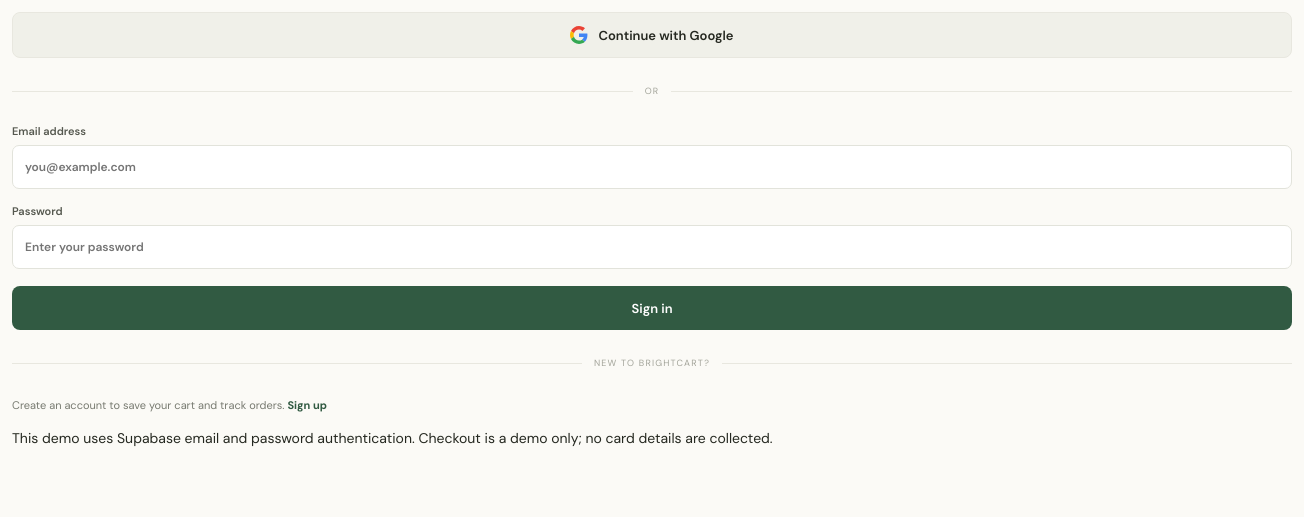
Test: PasswordAuthForm › shows authentication failures to the user
Type "buyer@example.com" into the field labelled "Email address" at (652, 167), box [12,145,1292,189]
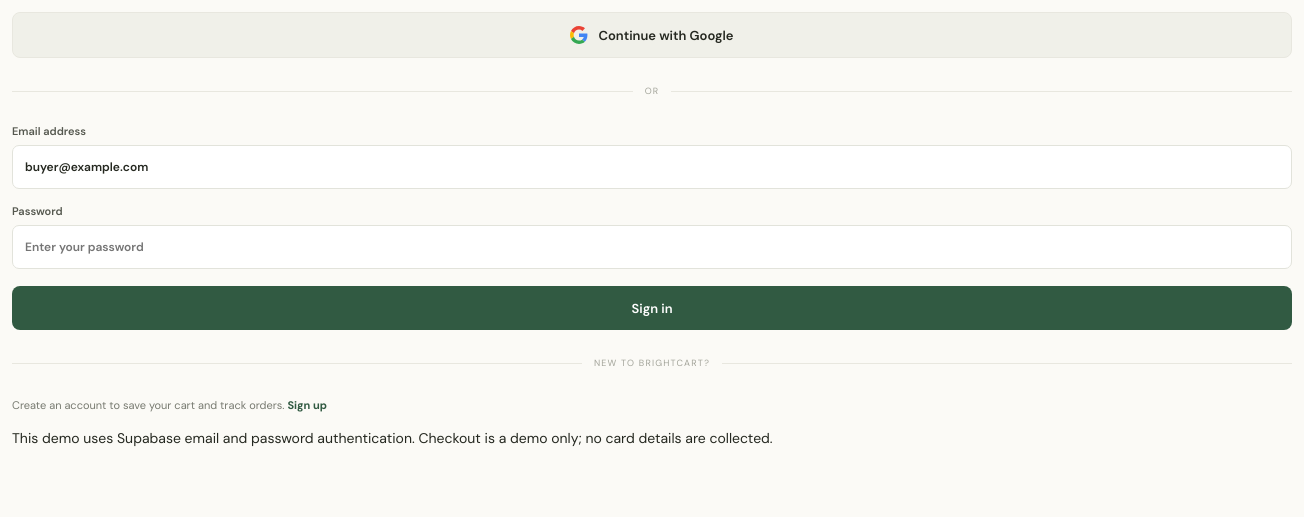
Type "wrong-password" into the password field labelled "Password" at (652, 247), box [12,225,1292,269]
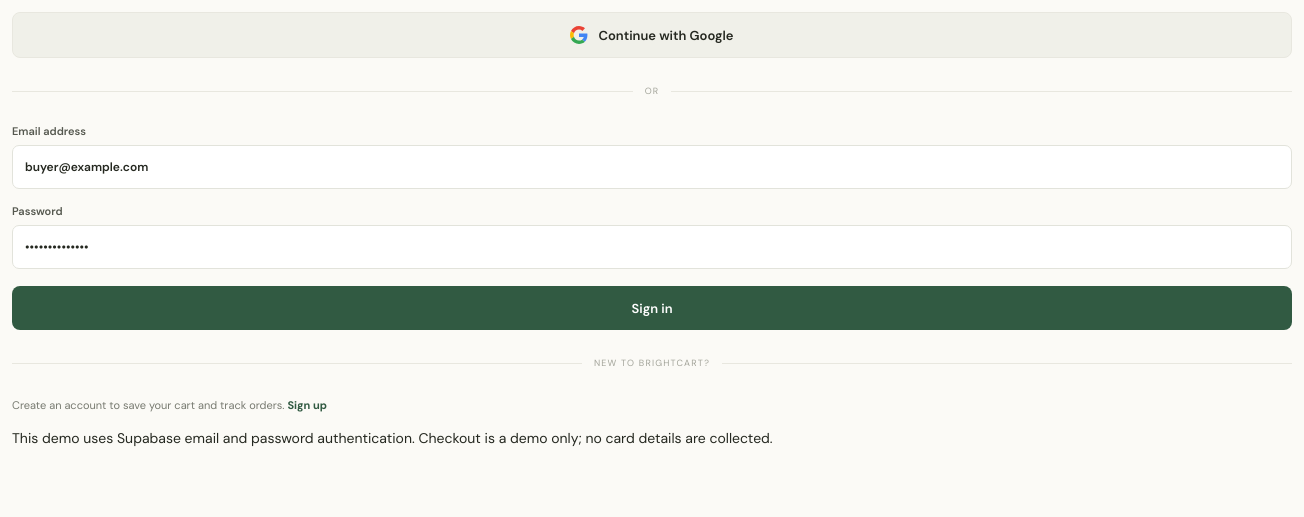
Click the button "Sign in" at (652, 308), box [12,286,1292,330]
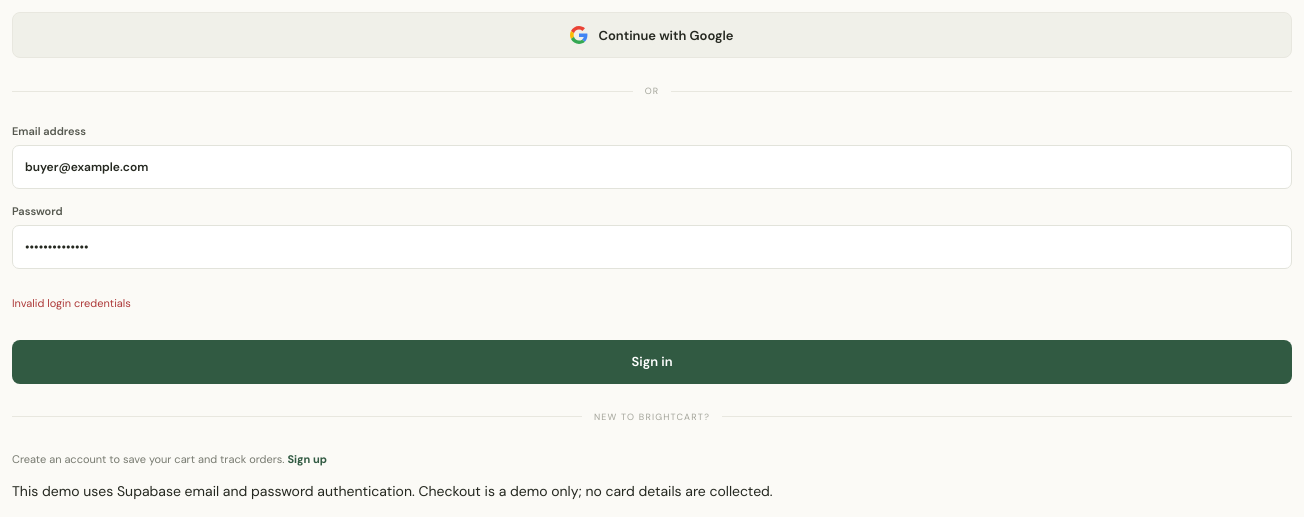
Expected: the message reads "Invalid login credentials", [12,296,131,310]
